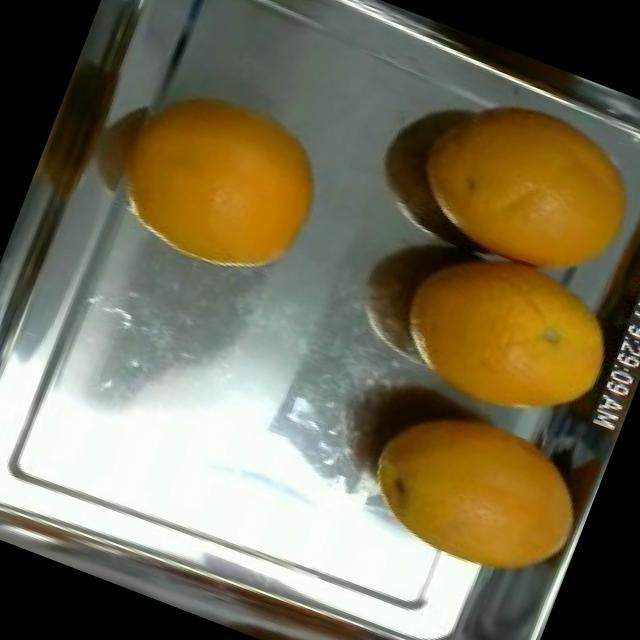Fruit: (366, 384, 610, 601)
